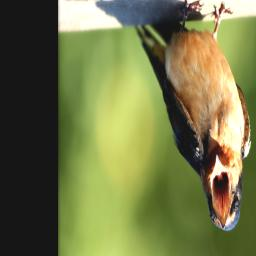Swallow: (134, 0, 253, 233)
